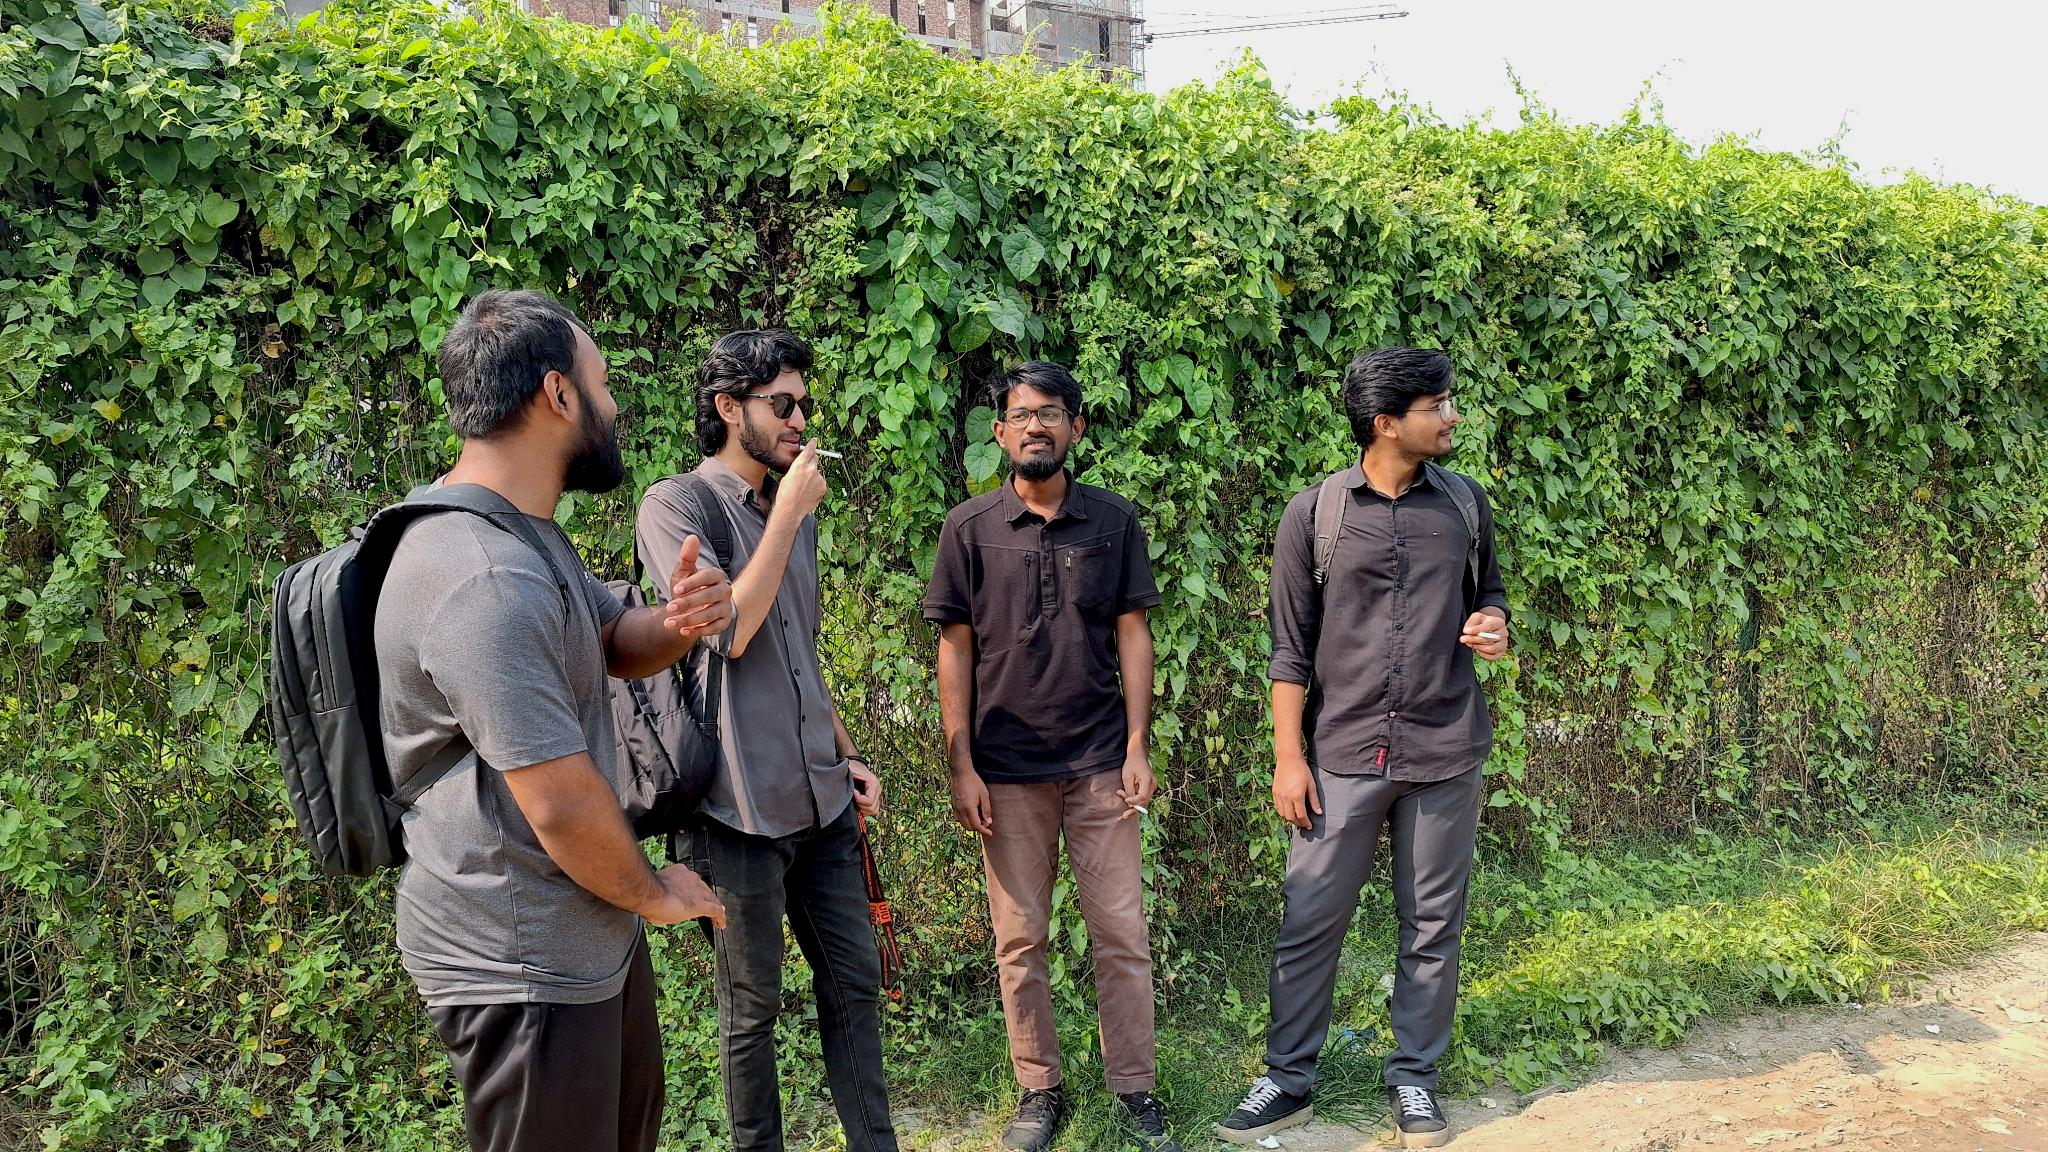cigarette: (798, 444, 844, 460), (1476, 632, 1502, 641), (1132, 803, 1151, 816)
nonSmoker: (271, 288, 733, 1152)
smoker: (602, 329, 903, 1152), (1217, 349, 1512, 1148), (923, 361, 1182, 1152)
